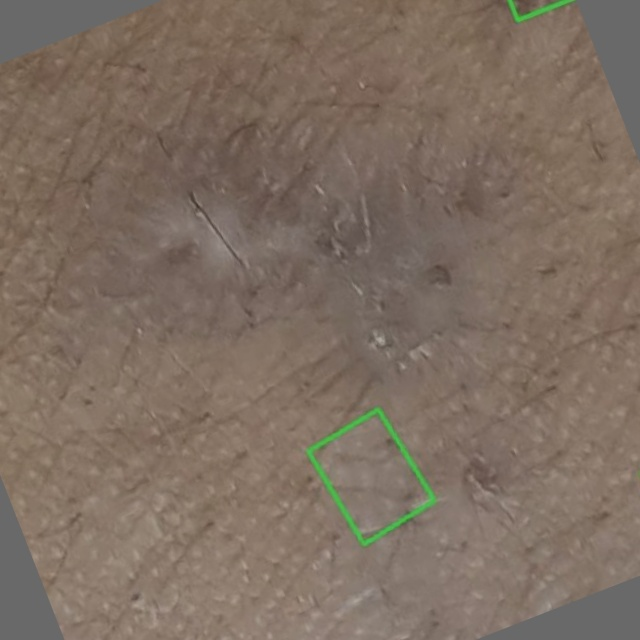Atopic Dermatitis: (307, 408, 433, 543)
